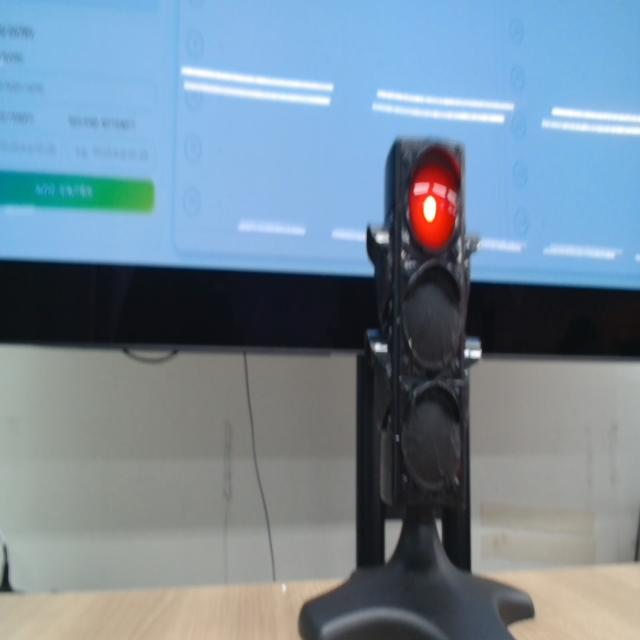red_light: (409, 160, 458, 250)
